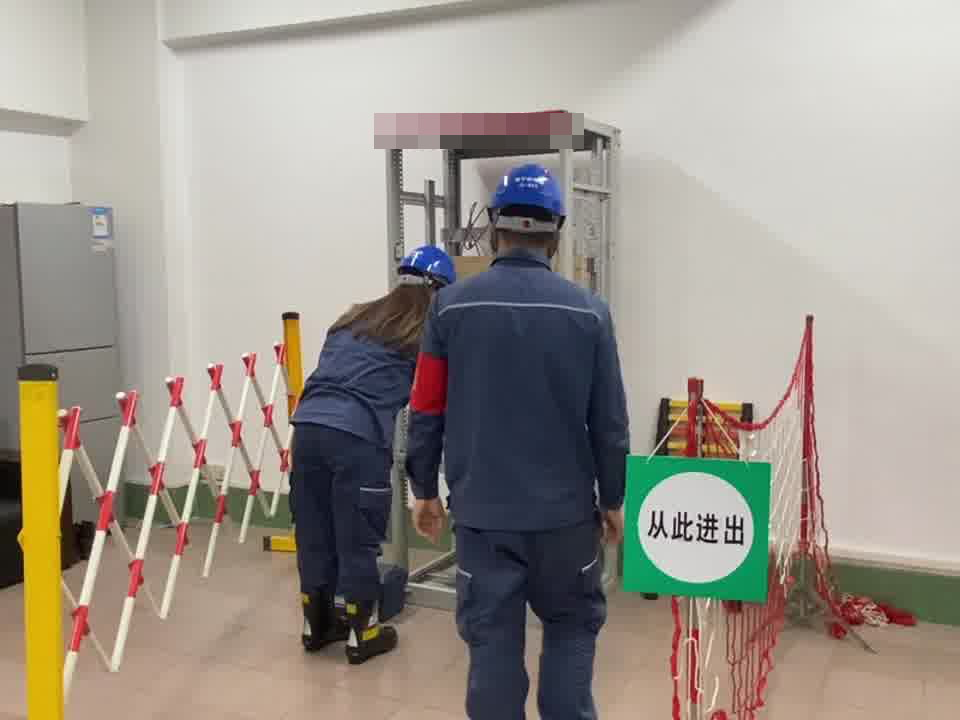badge: (409, 354, 450, 416)
downsuit: (451, 539, 613, 720), (289, 438, 395, 618)
hair: (340, 244, 456, 346)
halt: (485, 162, 571, 260)
hand: (404, 498, 451, 542), (601, 507, 626, 550)
intosign: (629, 457, 763, 588)
person: (408, 160, 636, 720), (283, 244, 461, 650)
shoe: (296, 589, 401, 665)
upsuit: (406, 257, 633, 528), (290, 319, 413, 434)
